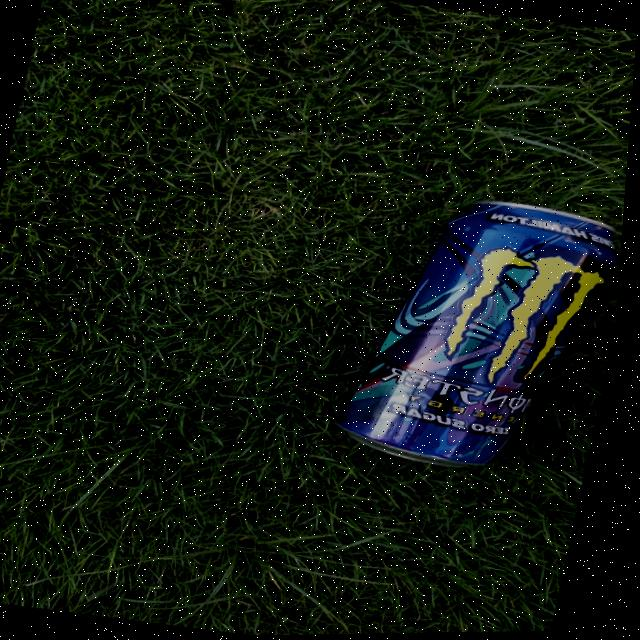Monster LH44: (313, 168, 630, 508)
